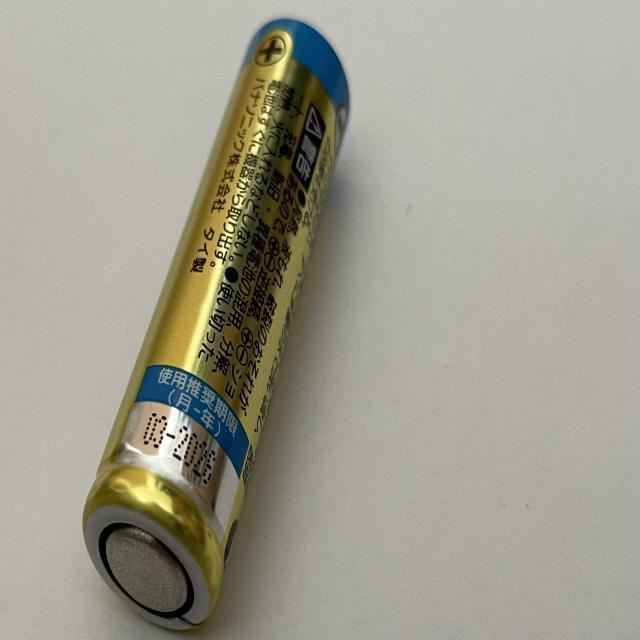AA: (81, 17, 352, 634)
